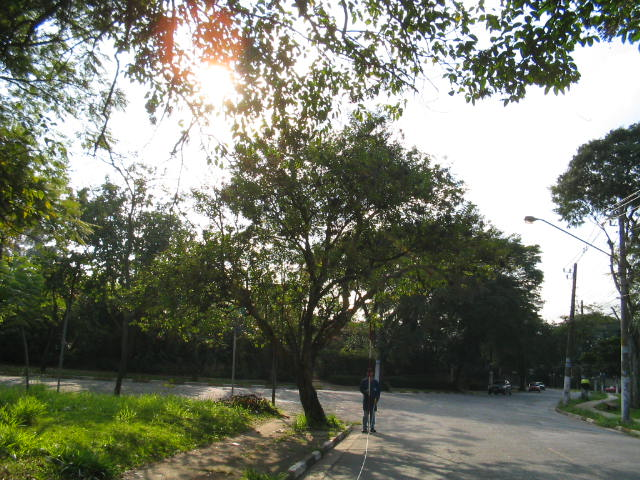crown: (114, 81, 544, 365)
stem: (288, 378, 337, 429)
stick: (365, 323, 375, 430)
tree: (112, 80, 547, 429)
